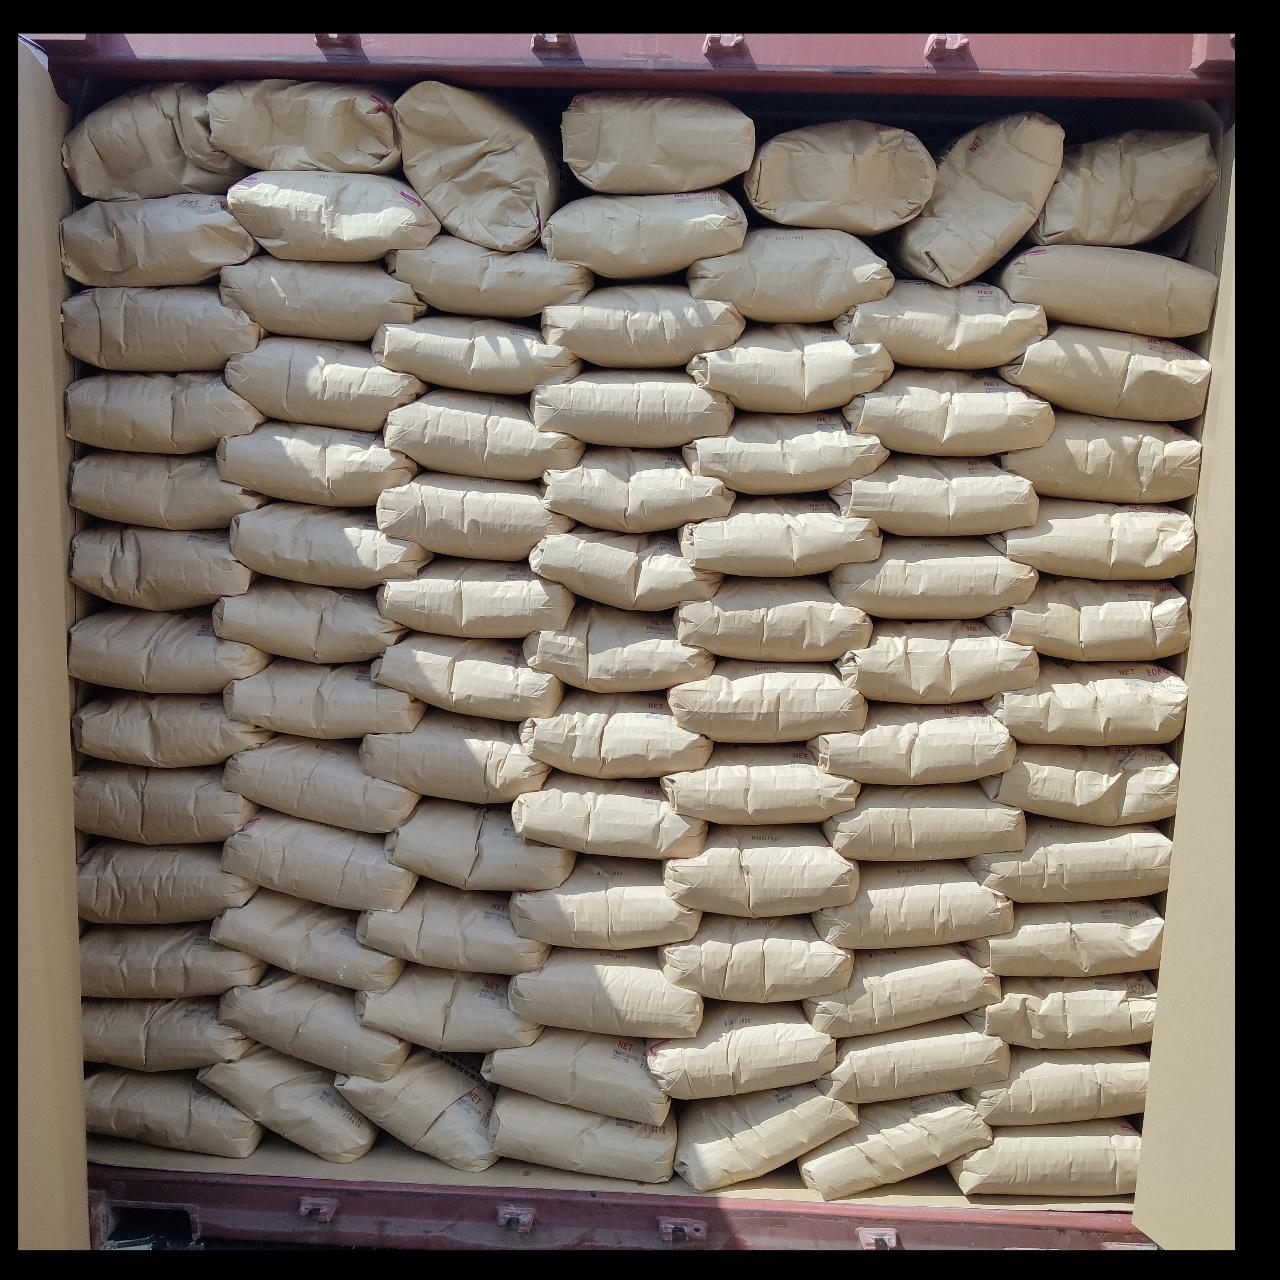sack: (896, 114, 1062, 284), (400, 80, 556, 246), (744, 120, 934, 234), (1028, 130, 1214, 246), (220, 968, 408, 1078), (66, 84, 246, 198), (1000, 324, 1206, 420), (800, 1094, 990, 1198), (198, 1046, 374, 1158), (222, 808, 414, 910), (336, 1048, 496, 1170), (996, 246, 1214, 334), (212, 890, 404, 988), (564, 92, 754, 190), (676, 1084, 854, 1188), (228, 172, 438, 260), (226, 336, 426, 428), (690, 228, 892, 318), (226, 736, 418, 830), (202, 80, 398, 172), (542, 190, 746, 278), (836, 280, 1044, 366), (844, 368, 1052, 454), (1000, 412, 1198, 502), (62, 194, 254, 286), (688, 324, 892, 410), (384, 390, 582, 478), (648, 1002, 832, 1096), (806, 946, 998, 1036), (220, 256, 424, 340), (360, 880, 546, 972), (362, 708, 548, 800), (490, 1088, 676, 1180), (814, 862, 1012, 948), (986, 576, 1188, 660), (968, 816, 1170, 900), (484, 1028, 668, 1120), (666, 826, 854, 916), (512, 858, 700, 948), (386, 798, 572, 888), (512, 948, 702, 1036), (512, 772, 706, 858), (232, 502, 430, 586), (70, 608, 268, 692), (64, 284, 262, 368), (388, 234, 590, 316), (524, 602, 712, 690), (378, 472, 570, 558), (830, 454, 1036, 534), (986, 660, 1186, 742), (838, 620, 1038, 702), (542, 284, 742, 366), (990, 498, 1192, 578), (684, 412, 886, 492), (660, 914, 852, 998), (372, 634, 562, 718), (214, 578, 404, 662), (810, 704, 1014, 782), (676, 578, 870, 660), (224, 658, 422, 738), (818, 1018, 1006, 1102), (218, 422, 414, 502), (830, 538, 1036, 614), (374, 314, 580, 390), (72, 522, 254, 608), (356, 964, 538, 1050), (522, 690, 708, 774), (532, 368, 732, 446), (542, 448, 732, 530), (670, 660, 864, 740), (68, 372, 262, 452), (680, 496, 878, 574), (530, 526, 718, 608), (88, 1068, 262, 1156), (662, 744, 858, 822), (378, 558, 572, 636), (824, 784, 1022, 860), (980, 746, 1178, 822), (76, 690, 270, 766), (950, 1118, 1140, 1194), (74, 762, 254, 842), (968, 900, 1162, 974), (966, 1046, 1148, 1124), (78, 840, 254, 920), (74, 452, 264, 526), (968, 974, 1156, 1046), (82, 922, 264, 996), (84, 998, 252, 1070)
